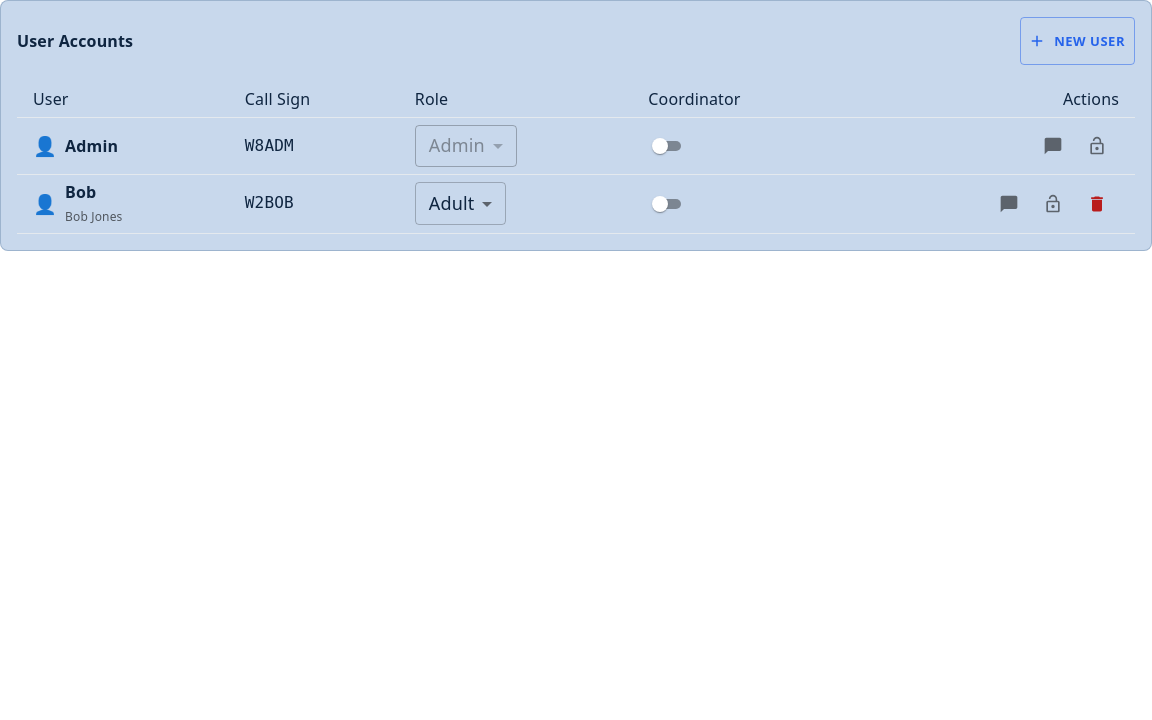
Scenario: UsersPanel › renders all form fields in the create dialog
Click the button "New User".
click(1078, 41)  # box [1020,17,1135,65]
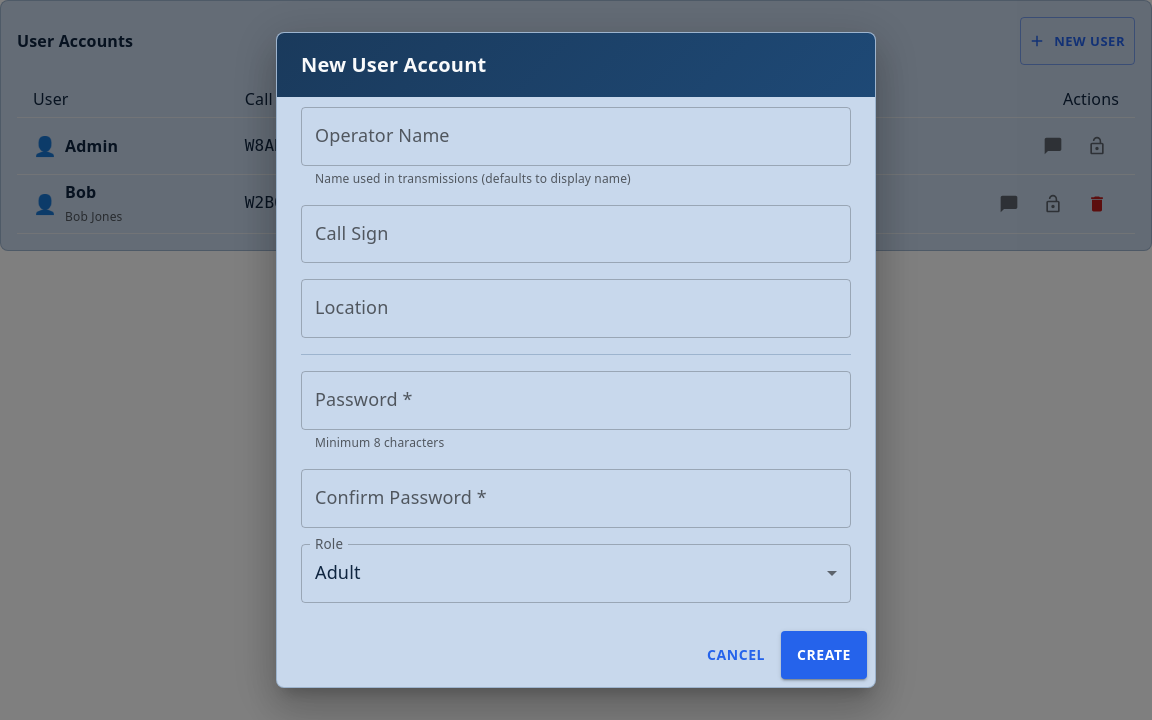
Expected: the field labelled "Operator Name" is shown, [301,107,851,166]
Expected: the field labelled "Call Sign" is shown, [301,205,851,264]
Expected: the field labelled "Location" is shown, [301,279,851,338]
